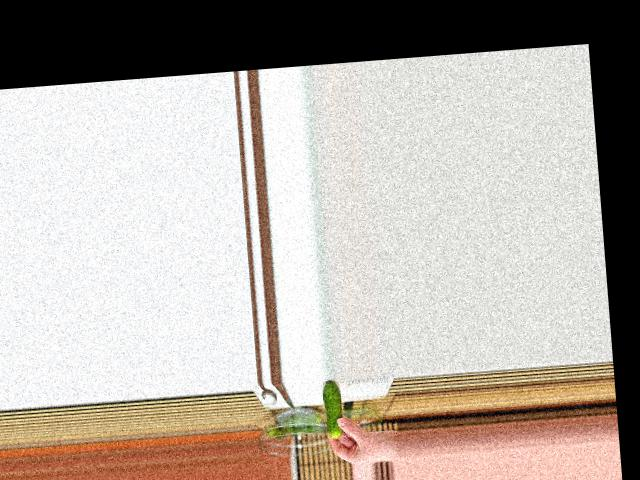cucumber: (322, 380, 344, 439)
